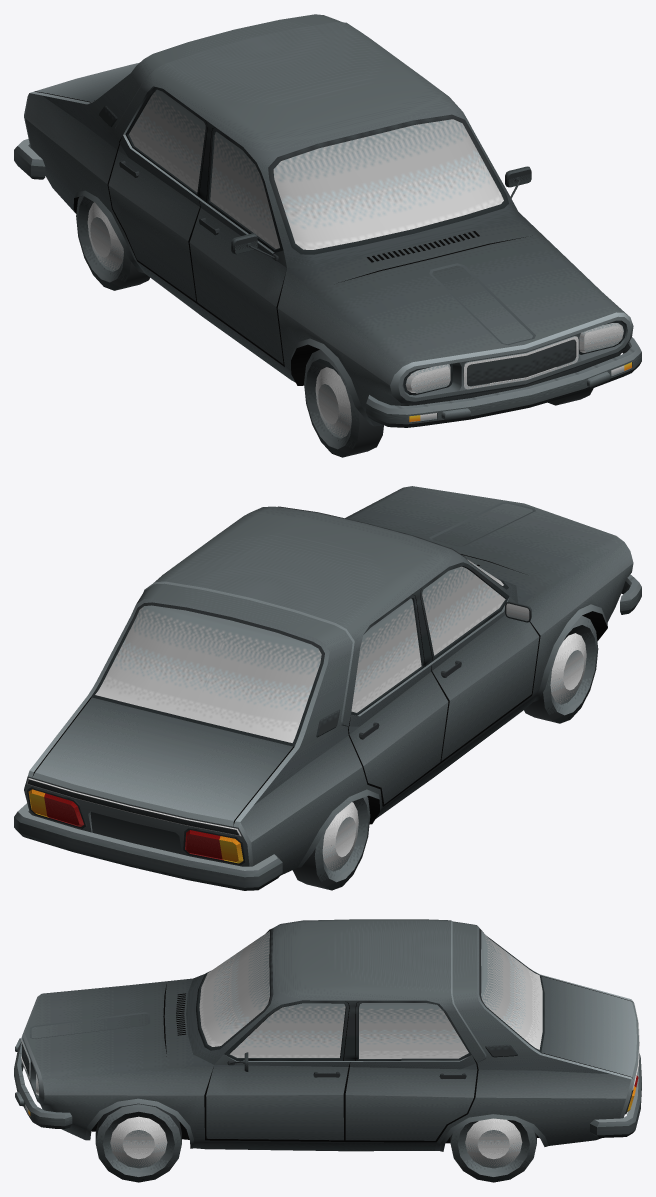
The model's file is car_r12.glb.
The picture shows the model from 3 angles, top to bottom: view 1: azimuth 30°, elevation 25°; view 2: azimuth 150°, elevation 25°; view 3: azimuth 270°, elevation 25°; orthographic projection. The views are drawn at different scales.
Visible parts, largest first — view 1: BLW.004_Vehicle_0; view 2: BLW.004_Vehicle_0; view 3: BLW.004_Vehicle_0.
Part boxes in pixels (<box>): BLW.004_Vehicle_0: <box>14,14,641,457</box>; BLW.004_Vehicle_0: <box>14,486,641,890</box>; BLW.004_Vehicle_0: <box>14,919,641,1182</box>.
Bounding box in the file's own units: 249 × 191 × 580.
1 material, 1 textured.
